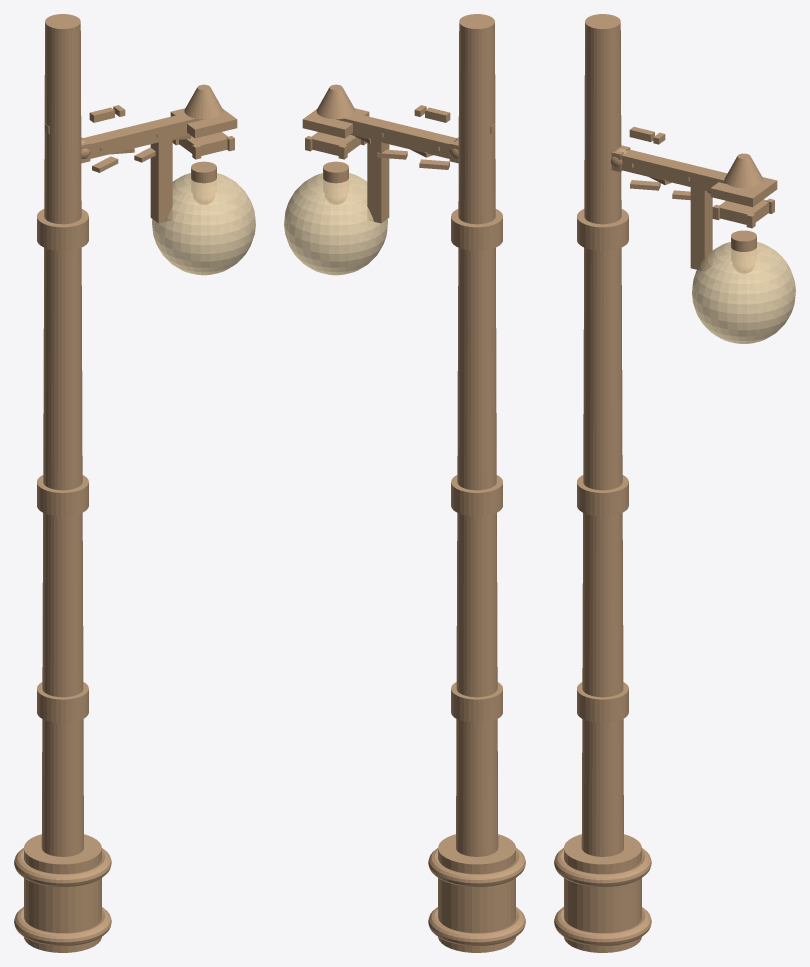
3 views of the same model, side by side, from view 1: azimuth 30°, elevation 25°; view 2: azimuth 150°, elevation 25°; view 3: azimuth 330°, elevation 25° (orthographic).
Visible parts, largest first — view 1: MainPole, AmberGlassGlobe, Base, Cube, Cube.001, Cylinder.002, Torus, Torus.001, Cylinder.001, Cylinder, Cone, Cube.023 (+2 smaller); view 2: MainPole, AmberGlassGlobe, Base, Cube, Cube.001, Cylinder.002, Torus, Torus.001, Cylinder.001, Cylinder, Cone, Cube.023 (+2 smaller); view 3: MainPole, AmberGlassGlobe, Base, Cube, Cube.001, Cylinder.002, Torus, Torus.001, Cylinder.001, Cylinder, Cube.023, Cone (+2 smaller).
Part boxes in pixels (x1=…): MainPole: x1=41, y1=14, x2=83, y2=856; AmberGlassGlobe: x1=152, y1=173, x2=255, y2=275; Base: x1=24, y1=834, x2=101, y2=952; Cube: x1=83, y1=113, x2=203, y2=158; Cube.001: x1=150, y1=132, x2=172, y2=223; Cylinder.002: x1=37, y1=209, x2=88, y2=250; Torus: x1=14, y1=907, x2=111, y2=945; Torus.001: x1=14, y1=848, x2=111, y2=886; Cylinder.001: x1=37, y1=475, x2=88, y2=516; Cylinder: x1=37, y1=682, x2=88, y2=723; Cone: x1=184, y1=84, x2=223, y2=119; Cube.023: x1=170, y1=108, x2=237, y2=138; MainPole: x1=456, y1=14, x2=498, y2=856; AmberGlassGlobe: x1=284, y1=173, x2=387, y2=275; Base: x1=438, y1=834, x2=515, y2=952; Cube: x1=336, y1=113, x2=456, y2=158; Cube.001: x1=367, y1=132, x2=389, y2=223; Cylinder.002: x1=451, y1=209, x2=502, y2=250; Torus: x1=428, y1=907, x2=525, y2=945; Torus.001: x1=428, y1=848, x2=525, y2=886; Cylinder.001: x1=451, y1=475, x2=502, y2=516; Cylinder: x1=451, y1=682, x2=502, y2=723; Cone: x1=316, y1=84, x2=355, y2=119; Cube.023: x1=302, y1=108, x2=369, y2=138; MainPole: x1=581, y1=14, x2=623, y2=856; AmberGlassGlobe: x1=692, y1=242, x2=795, y2=343; Base: x1=564, y1=834, x2=641, y2=952; Cube: x1=621, y1=149, x2=727, y2=191; Cube.001: x1=690, y1=180, x2=712, y2=271; Cylinder.002: x1=577, y1=209, x2=628, y2=250; Torus: x1=554, y1=907, x2=651, y2=945; Torus.001: x1=554, y1=848, x2=651, y2=886; Cylinder.001: x1=577, y1=475, x2=628, y2=516; Cylinder: x1=577, y1=682, x2=628, y2=723; Cube.023: x1=710, y1=177, x2=777, y2=207; Cone: x1=724, y1=153, x2=763, y2=187.
Size of the model in its own units: 0.81 by 3.1 by 0.32.
